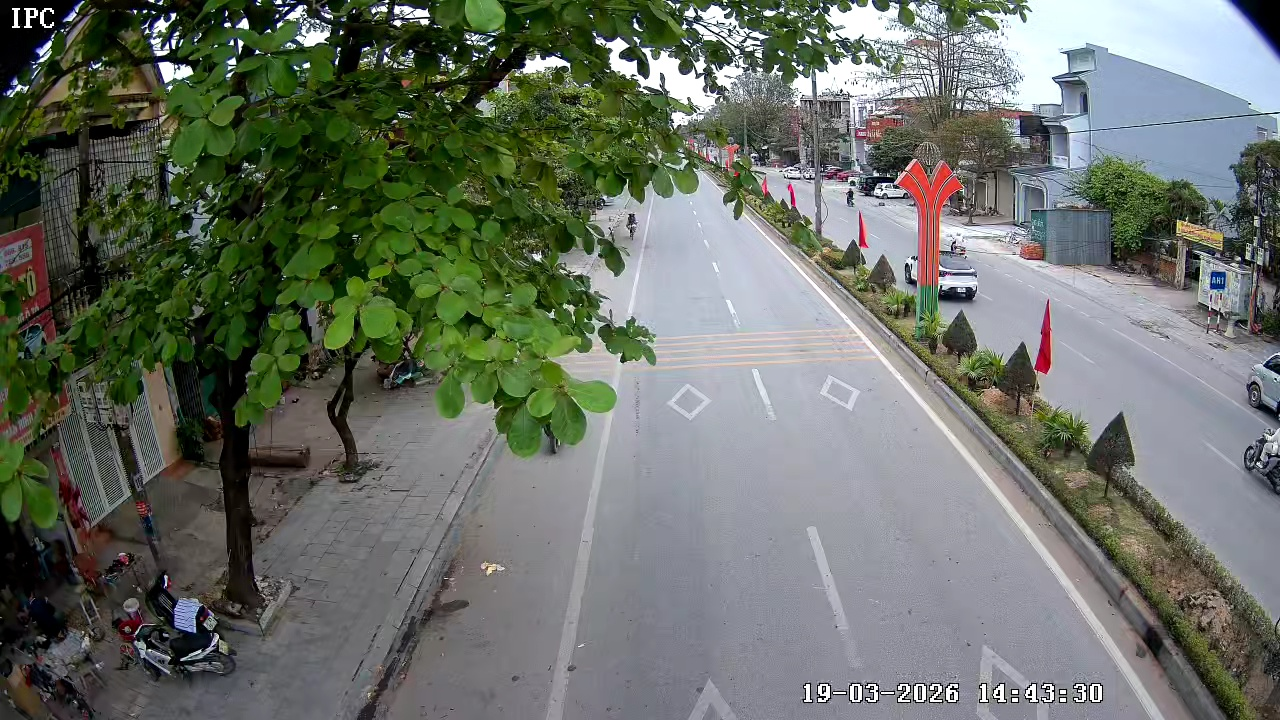car: (1245, 347, 1279, 422), (937, 252, 980, 301)
